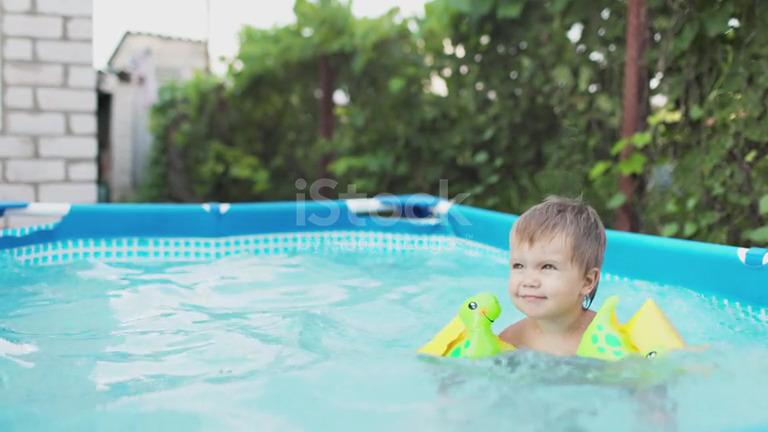Swimming: (349, 117, 748, 408)
